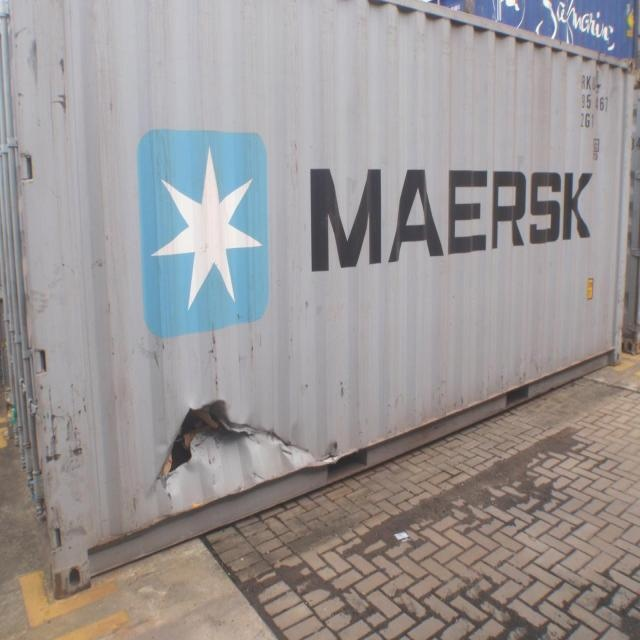Hole: (153, 402, 339, 484)
